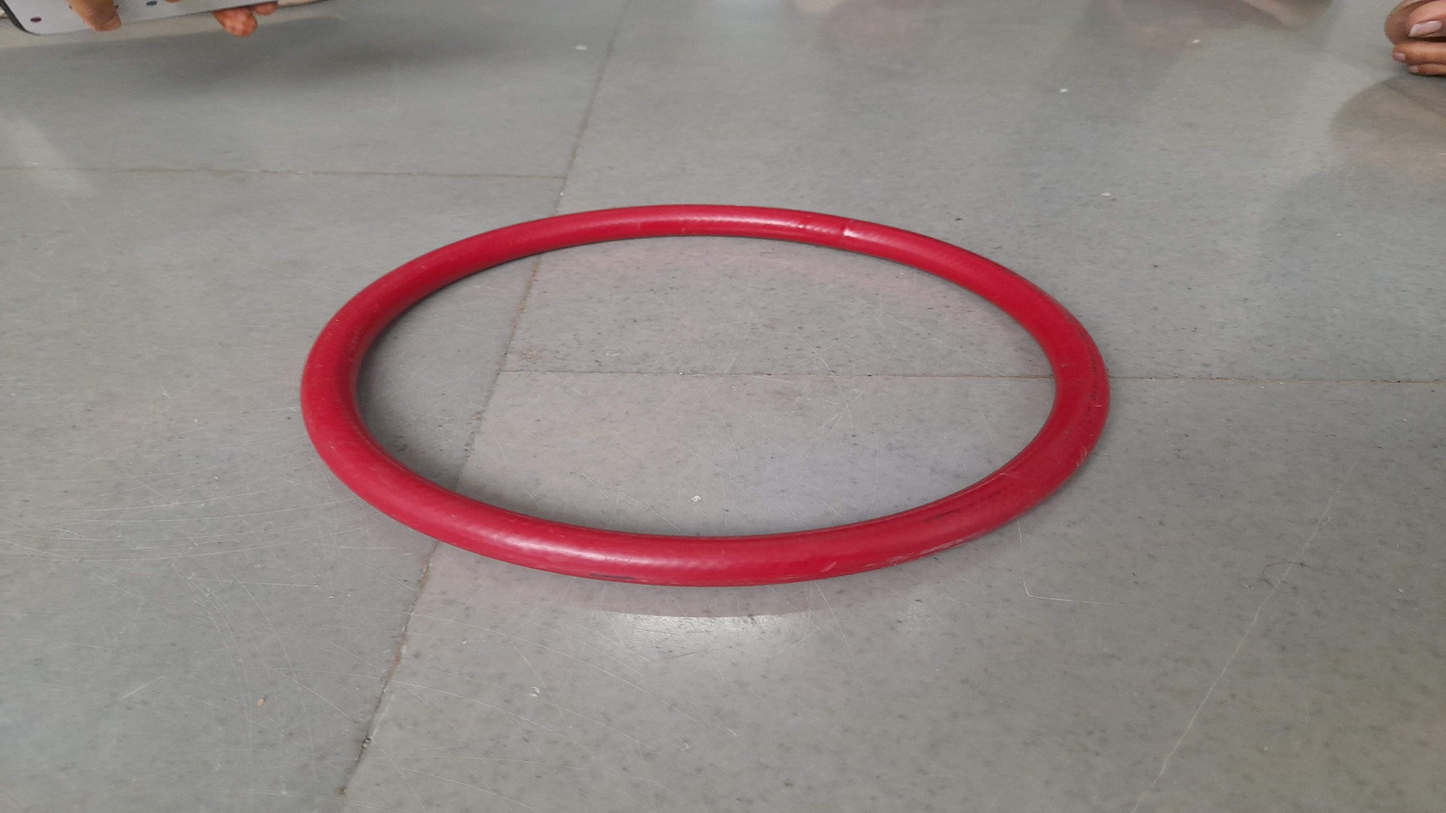Red ring: (302, 206, 1110, 582)
